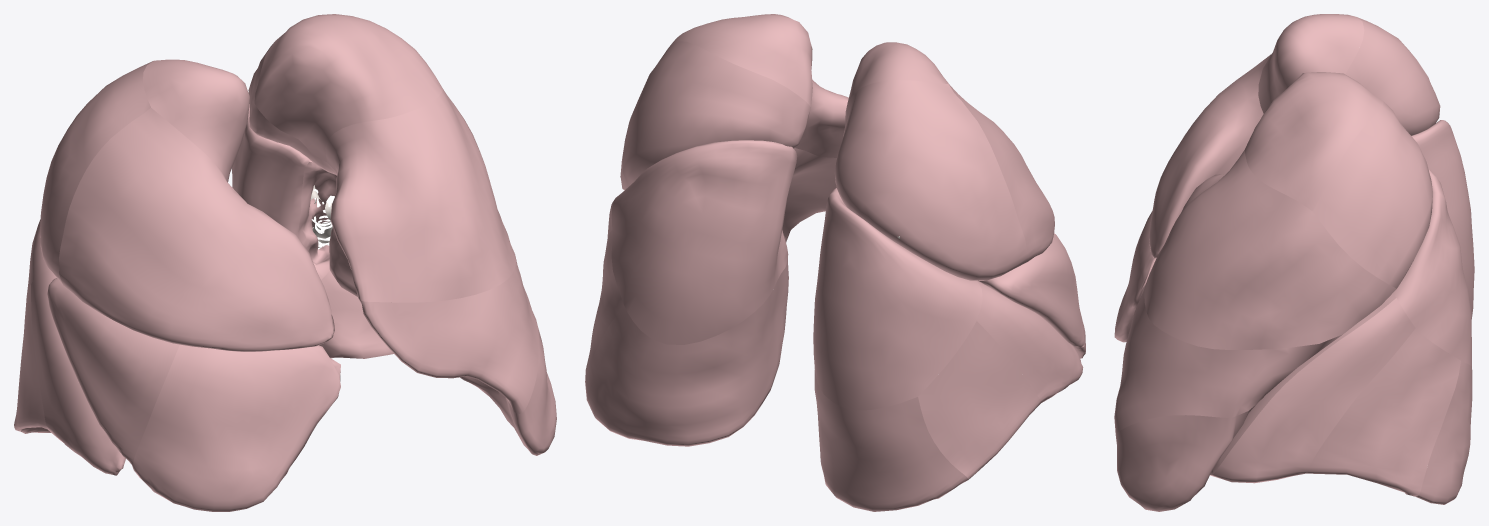
File: lung-male.glb
The picture shows the model from 3 angles, left to right: view 1: azimuth 30°, elevation 25°; view 2: azimuth 150°, elevation 25°; view 3: azimuth 270°, elevation 25°; orthographic projection. The views are drawn at different scales.
Visible parts, largest first — view 1: VH_M_right_anterior_bronchopulmonary_segment, VH_M_left_anterior_bronchopulmonary_segment, VH_M_right_medial_bronchopulmonary_segment, VH_M_left_apical_bronchopulmonary_segment, VH_M_left_lingula_superior_bronchopulmonary_segment, VH_M_right_lateral_bronchopulmonary_segment, VH_M_right_apical_bronchopulmonary_segment, VH_M_right_posterior_bronchopulmonary_segment, VH_M_right_anterior_basal_bronchopulmonary_segment, VH_M_left_superior_bronchopulmonary_segment, VH_M_left_lingula_inferior_bronchopulmonary_segment, VH_M_left_medial_basal_bronchopulmonary_segment (+5 smaller); view 2: VH_M_left_superior_bronchopulmonary_segment, VH_M_right_posterior_bronchopulmonary_segment, VH_M_right_superior_bronchopulmonary_segment, VH_M_left_posetrior_basal_bronchopulmonary_segment, VH_M_left_posterior_bronchopulmonary_segment, VH_M_right_posterior_basal_bronchopulmonary_segment, VH_M_right_lateral_basal_bronchopulmonary_segment, VH_M_left_apical_bronchopulmonary_segment, VH_M_right_anterior_basal_bronchopulmonary_segment, VH_M_right_lateral_bronchopulmonary_segment, VH_M_right_anterior_bronchopulmonary_segment, VH_M_left_lingula_superior_bronchopulmonary_segment (+3 smaller); view 3: VH_M_left_anterior_bronchopulmonary_segment, VH_M_left_lateral_basal_bronchopulmonary_segment, VH_M_left_posterior_bronchopulmonary_segment, VH_M_left_anterior_basal_bronchopulmonary_segment, VH_M_left_lingula_superior_bronchopulmonary_segment, VH_M_left_apical_bronchopulmonary_segment, VH_M_left_lingula_inferior_bronchopulmonary_segment, VH_M_right_anterior_bronchopulmonary_segment, VH_M_left_superior_bronchopulmonary_segment, VH_M_right_apical_bronchopulmonary_segment, VH_M_right_posterior_bronchopulmonary_segment, VH_M_left_posetrior_basal_bronchopulmonary_segment (+3 smaller).
Boxes of the visible parts, <box> form: VH_M_right_anterior_bronchopulmonary_segment: <box>59,108,334,351</box>; VH_M_left_anterior_bronchopulmonary_segment: <box>325,89,516,302</box>; VH_M_right_medial_bronchopulmonary_segment: <box>132,344,340,511</box>; VH_M_left_apical_bronchopulmonary_segment: <box>254,14,442,162</box>; VH_M_left_lingula_superior_bronchopulmonary_segment: <box>359,256,538,413</box>; VH_M_right_lateral_bronchopulmonary_segment: <box>47,278,179,465</box>; VH_M_right_apical_bronchopulmonary_segment: <box>143,59,249,182</box>; VH_M_right_posterior_bronchopulmonary_segment: <box>40,61,152,284</box>; VH_M_right_anterior_basal_bronchopulmonary_segment: <box>31,269,125,475</box>; VH_M_left_superior_bronchopulmonary_segment: <box>232,104,312,237</box>; VH_M_left_lingula_inferior_bronchopulmonary_segment: <box>329,245,556,455</box>; VH_M_left_medial_basal_bronchopulmonary_segment: <box>319,271,393,358</box>; VH_M_left_superior_bronchopulmonary_segment: <box>611,140,797,344</box>; VH_M_right_posterior_bronchopulmonary_segment: <box>834,80,1027,280</box>; VH_M_right_superior_bronchopulmonary_segment: <box>813,187,982,410</box>; VH_M_left_posetrior_basal_bronchopulmonary_segment: <box>585,262,788,446</box>; VH_M_left_posterior_bronchopulmonary_segment: <box>622,41,810,186</box>; VH_M_right_posterior_basal_bronchopulmonary_segment: <box>814,369,968,511</box>; VH_M_right_lateral_basal_bronchopulmonary_segment: <box>918,321,1040,479</box>; VH_M_left_apical_bronchopulmonary_segment: <box>669,14,812,106</box>; VH_M_right_anterior_basal_bronchopulmonary_segment: <box>976,280,1083,402</box>; VH_M_right_lateral_bronchopulmonary_segment: <box>978,233,1084,348</box>; VH_M_right_anterior_bronchopulmonary_segment: <box>949,84,1054,261</box>; VH_M_left_lingula_superior_bronchopulmonary_segment: <box>623,148,836,239</box>; VH_M_left_anterior_bronchopulmonary_segment: <box>1144,149,1396,349</box>; VH_M_left_lateral_basal_bronchopulmonary_segment: <box>1306,328,1460,496</box>; VH_M_left_posterior_bronchopulmonary_segment: <box>1313,102,1432,288</box>; VH_M_left_anterior_basal_bronchopulmonary_segment: <box>1210,298,1415,483</box>; VH_M_left_lingula_superior_bronchopulmonary_segment: <box>1114,283,1391,434</box>; VH_M_left_apical_bronchopulmonary_segment: <box>1245,72,1383,211</box>; VH_M_left_lingula_inferior_bronchopulmonary_segment: <box>1115,403,1257,511</box>; VH_M_right_anterior_bronchopulmonary_segment: <box>1149,53,1272,258</box>; VH_M_left_superior_bronchopulmonary_segment: <box>1393,168,1471,366</box>; VH_M_right_apical_bronchopulmonary_segment: <box>1258,14,1364,113</box>; VH_M_right_posterior_bronchopulmonary_segment: <box>1345,17,1440,135</box>; VH_M_left_posetrior_basal_bronchopulmonary_segment: <box>1416,361,1472,504</box>.
Bounding box in the file's own units: 0.2594 × 0.2291 × 0.1897.
